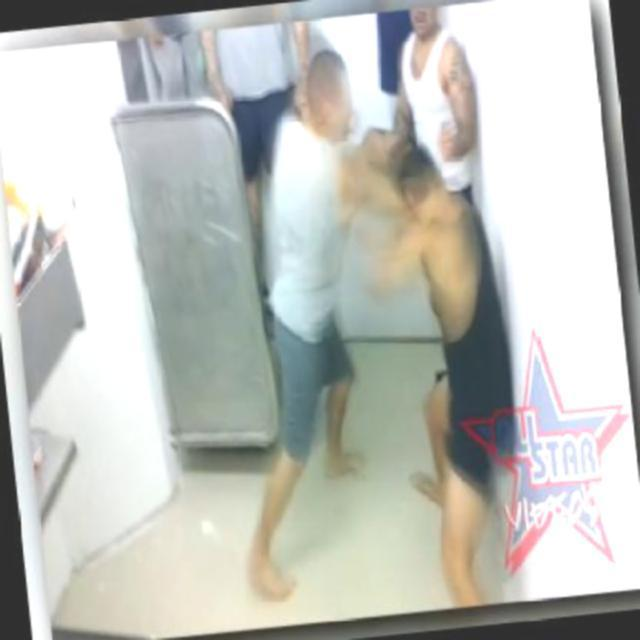fight: (248, 40, 489, 578)
